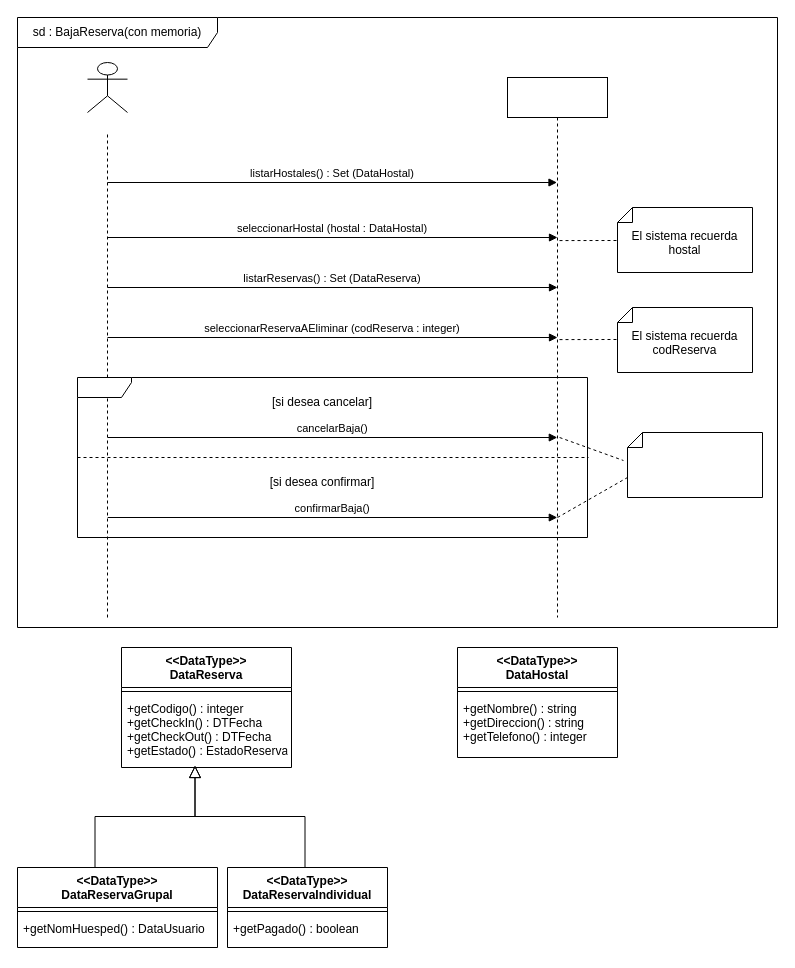
Image size: 795x968. Some labels were removed from this diagram. The box of each missing label's shape, as (x1, y1, x2, y2) in pixels:
:Sistema: (506, 76, 608, 618)
alt: (76, 376, 588, 538)
El sistema libera la memoria: (626, 432, 762, 498)
Usuario: (86, 62, 128, 112)
